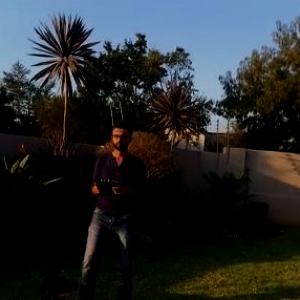follow: (73, 115, 148, 299)
null: (38, 268, 77, 299)
